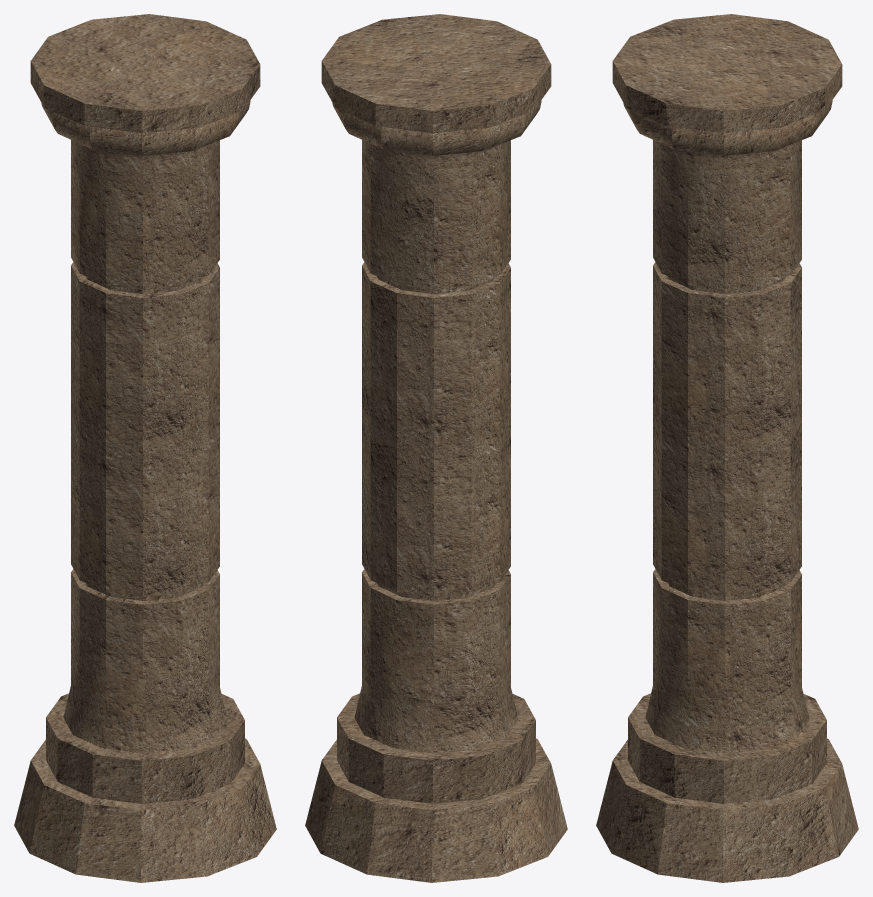
File: fbxPillar.fbx
3 views of the same model, side by side, from view 1: azimuth 30°, elevation 25°; view 2: azimuth 150°, elevation 25°; view 3: azimuth 270°, elevation 25° (orthographic).
Parts seen in each view (by area): view 1: pilar; view 2: pilar; view 3: pilar.
Part boxes in pixels (bbox=[...]): pilar: bbox=[14, 14, 276, 882]; pilar: bbox=[305, 14, 567, 882]; pilar: bbox=[596, 14, 858, 882].
Size of the model in its own units: 1.4 by 4.5 by 1.4.
Materials: 1 (1 with a texture image).
